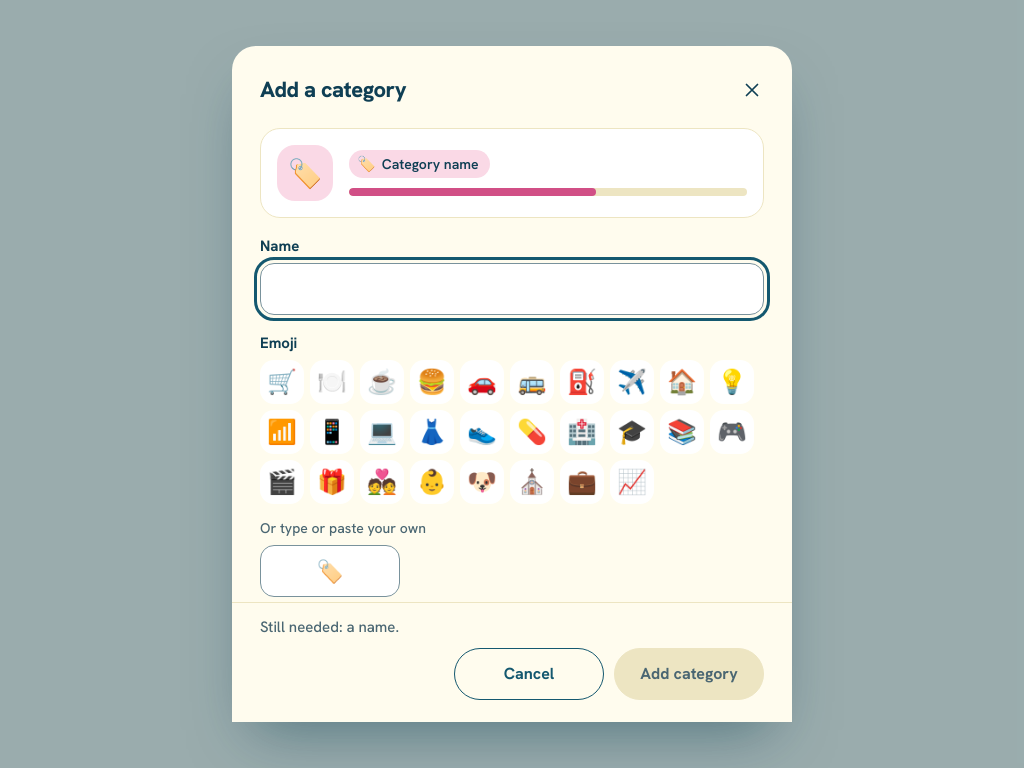
Test: add a category › asks for an emoji when what was typed isn't one
Type "Pets" into the field labelled "Name" at (512, 289), box [260, 263, 764, 315]
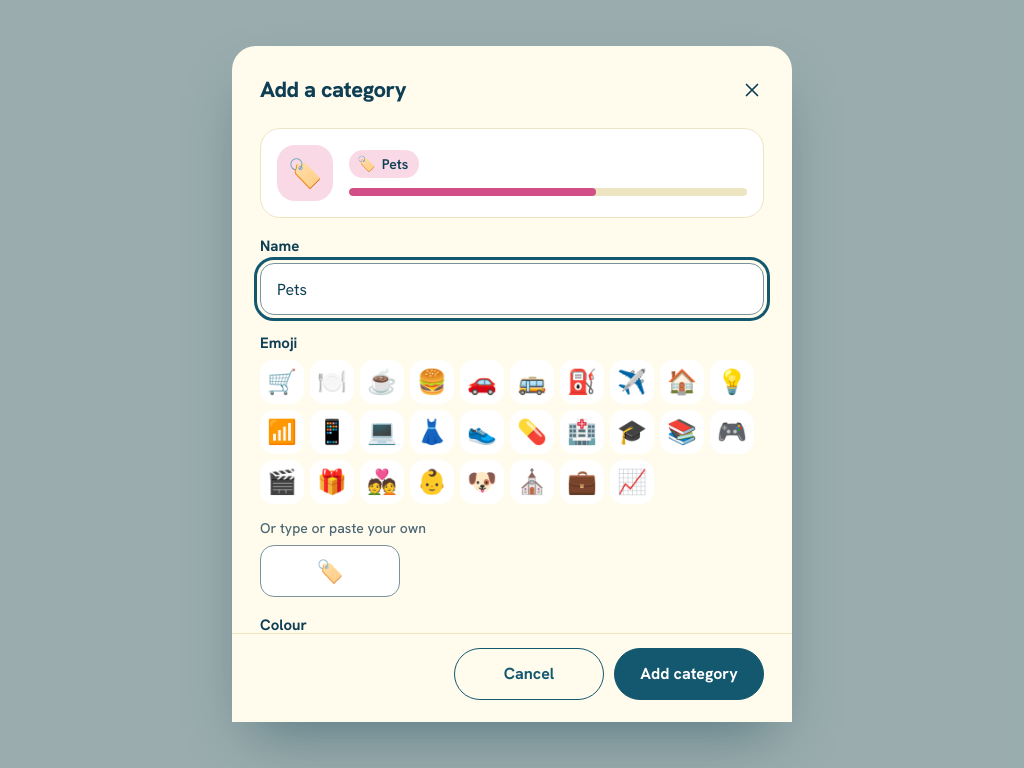
Replace the text in the field labelled "Or type or paste your own" with "x" at (330, 571), box [260, 545, 400, 597]
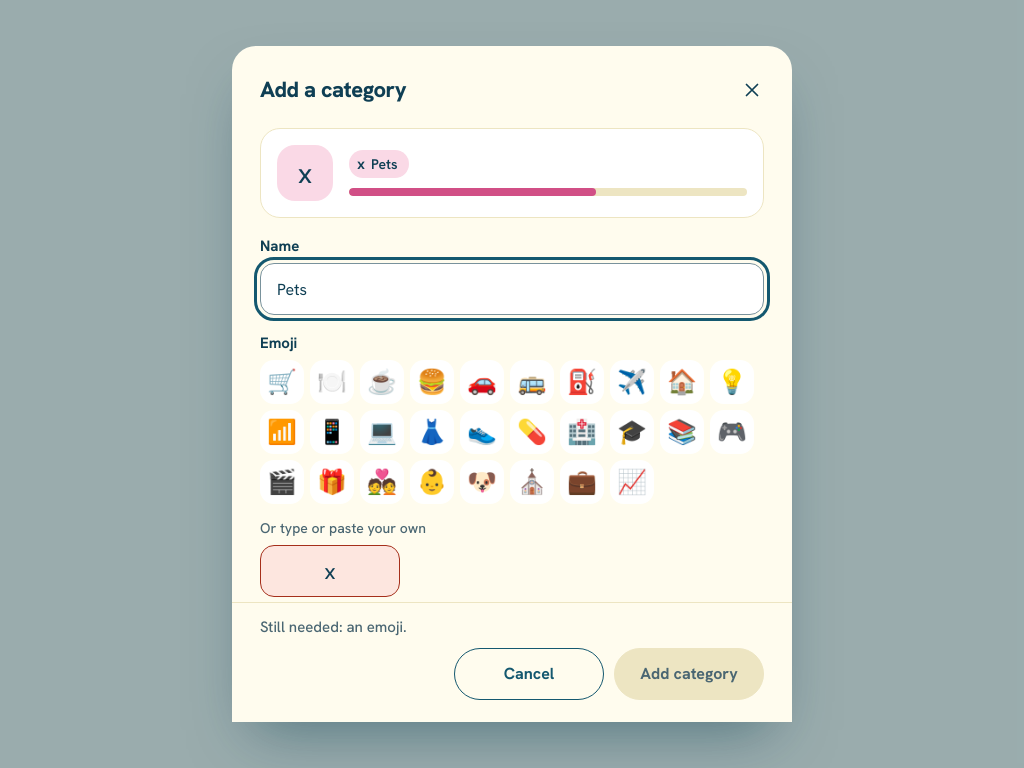
Expected: the text "Still needed: an emoji." is shown, [260, 617, 406, 637]
Replace the text in the field labelled "Or type or paste your own" with "🙂🙃" at (330, 571), box [260, 545, 400, 597]
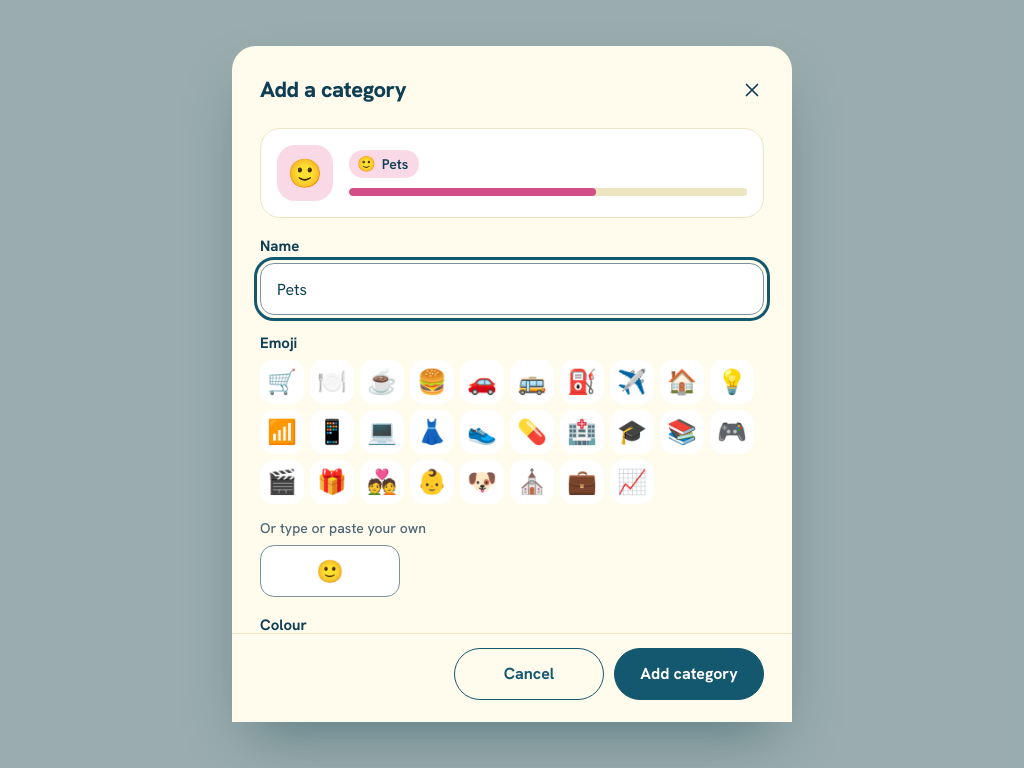
Expected: the text "Choose an emoji." is not shown
Expected: the field labelled "Or type or paste your own" holds "🙂", [260, 545, 400, 597]
